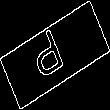P_SE: (33, 24, 77, 86)
